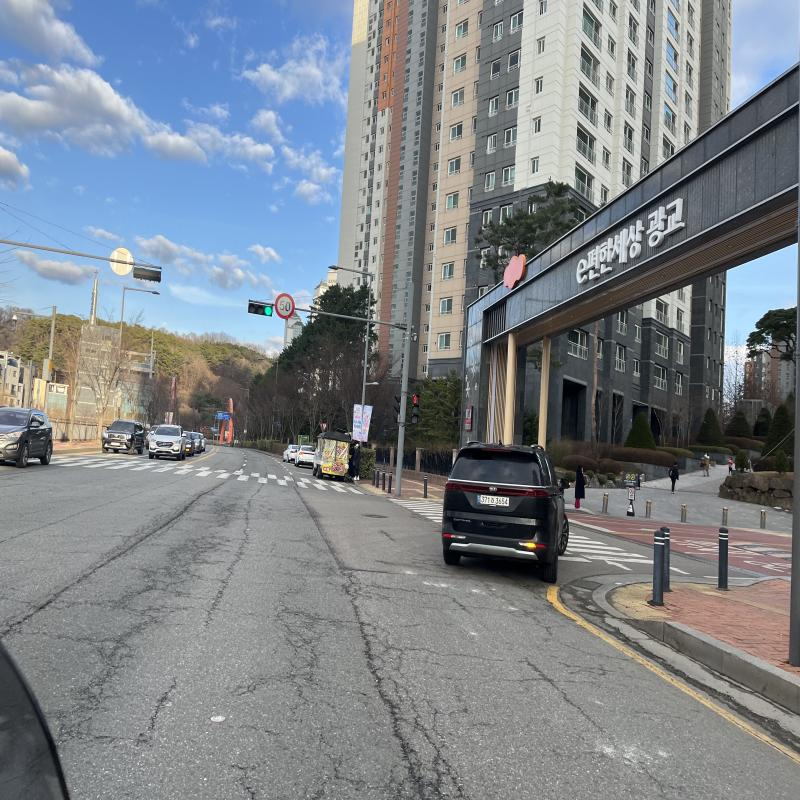green: (264, 305, 273, 316)
